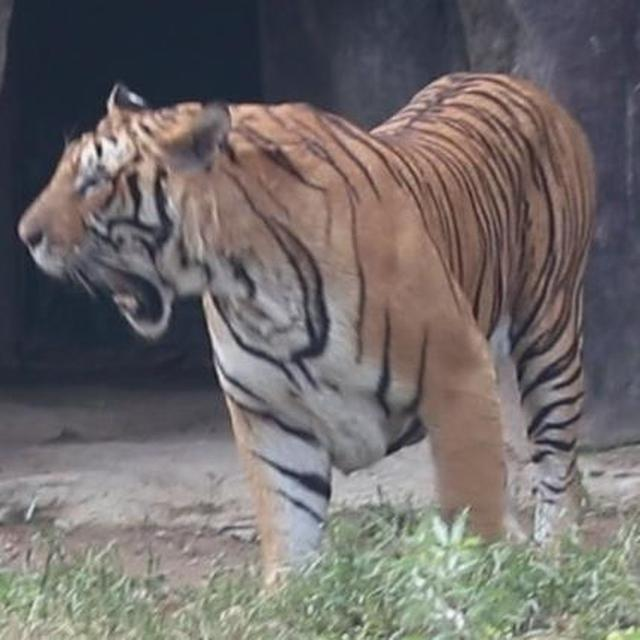tiger: (16, 68, 599, 598)
